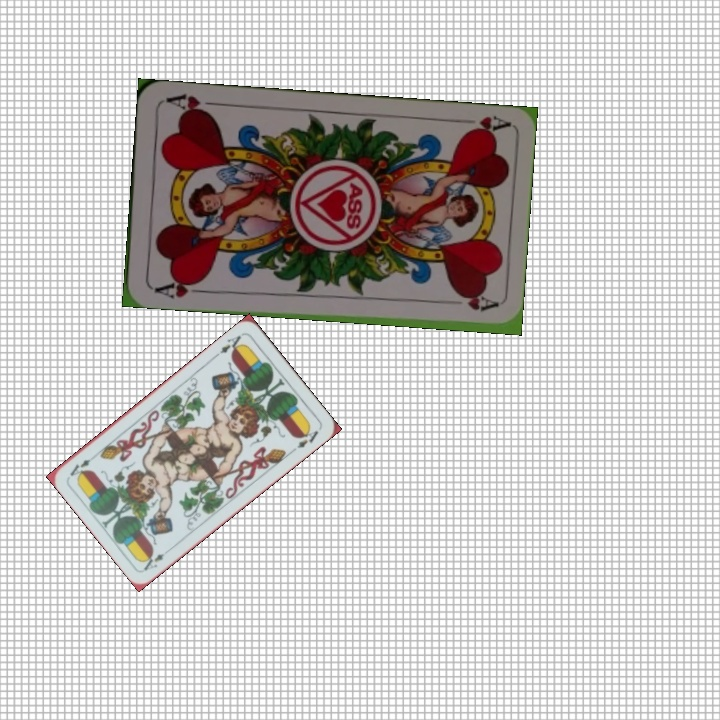EA: (211, 330, 246, 360), (139, 549, 167, 573)
HA: (148, 274, 207, 301), (451, 111, 510, 138)
